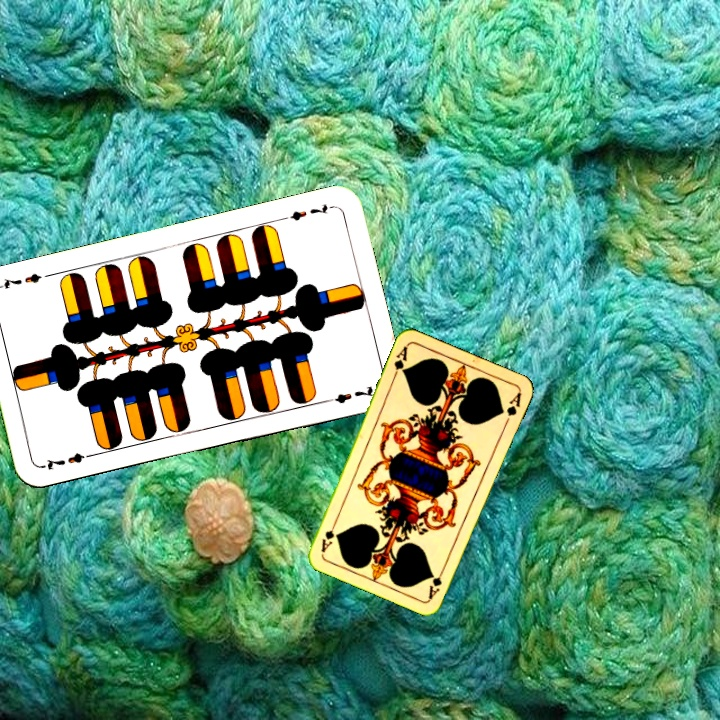E7: (39, 448, 98, 473), (278, 199, 336, 223)
GA: (424, 562, 447, 601), (389, 342, 410, 381)
